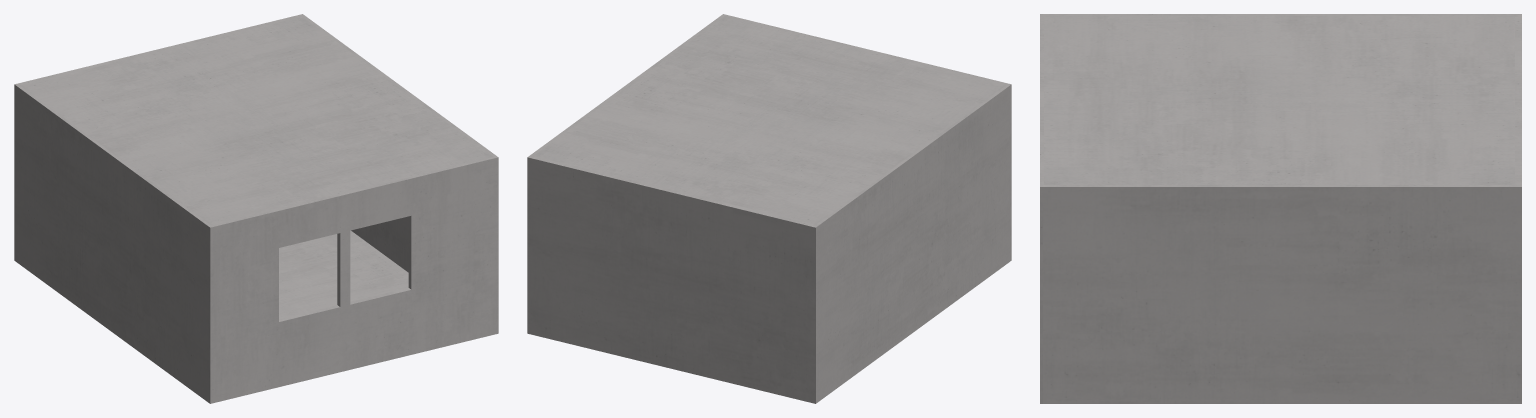
The model's file is walls_l1.fbx.
3 renders of one model, left to right at view 1: azimuth 30°, elevation 25°; view 2: azimuth 150°, elevation 25°; view 3: azimuth 270°, elevation 25°, orthographic. The views are drawn at different scales.
Visible parts, largest first — view 1: pPlane2, polySurface2, pCube1, pPlane1, pCube2, pCube4; view 2: pPlane2, pCube4, pCube1, polySurface2, pCube2; view 3: pCube2, pPlane2, pCube4, polySurface2, pCube1.
Boxes of the visible parts, x1,y1,x2,y2 form: pPlane2: [20, 16, 493, 225]; polySurface2: [209, 156, 498, 403]; pCube1: [14, 83, 213, 402]; pPlane1: [279, 230, 408, 318]; pCube2: [298, 14, 496, 272]; pCube4: [16, 14, 305, 84]; pPlane2: [534, 16, 1006, 224]; pCube4: [527, 155, 815, 403]; pCube1: [811, 84, 1010, 403]; polySurface2: [722, 14, 1011, 260]; pCube2: [528, 15, 726, 158]; pCube2: [1043, 184, 1521, 403]; pPlane2: [1044, 15, 1514, 184]; pCube4: [1514, 14, 1521, 403]; polySurface2: [1040, 14, 1043, 403]; pCube1: [1043, 14, 1521, 16].
Size of the model in its own units: 5.14 by 3 by 6.04.
1 material, 1 textured.
